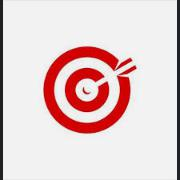bulls eye: (42, 45, 132, 139)
